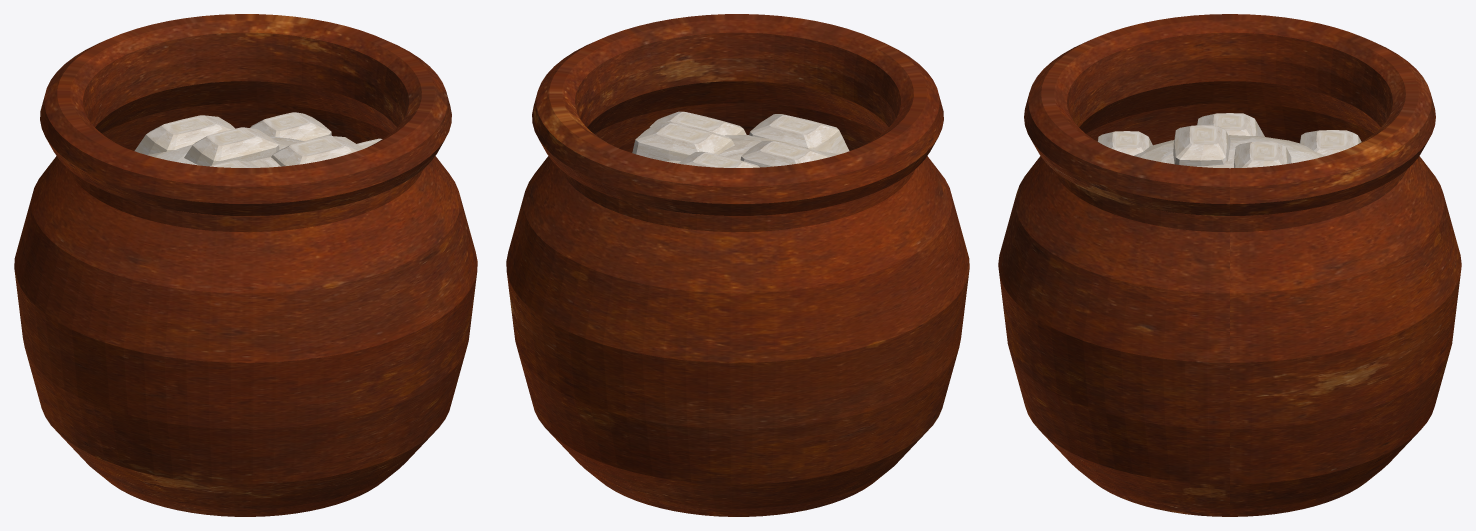
The model's file is soda.obj.
3 views of the same model, side by side, from view 1: azimuth 30°, elevation 25°; view 2: azimuth 150°, elevation 25°; view 3: azimuth 270°, elevation 25° (orthographic).
Visible parts, largest first — view 1: jar, flake_10, flake_8, flake_5, flake_9, fill; view 2: jar, flake_5, flake_1, flake_4, flake_2, flake_10, fill; view 3: jar, flake_4, fill, flake_10, flake_7, flake_3, flake_0.
Part boxes in pixels (x1=…): jar: x1=14, y1=14, x2=477, y2=516; flake_10: x1=184, y1=127, x2=279, y2=166; flake_8: x1=134, y1=115, x2=234, y2=154; flake_5: x1=271, y1=136, x2=362, y2=166; flake_9: x1=250, y1=112, x2=331, y2=141; fill: x1=147, y1=136, x2=303, y2=167; jar: x1=506, y1=14, x2=969, y2=516; flake_5: x1=632, y1=121, x2=734, y2=161; flake_1: x1=749, y1=114, x2=849, y2=154; flake_4: x1=740, y1=140, x2=827, y2=167; flake_2: x1=649, y1=111, x2=746, y2=135; flake_10: x1=679, y1=151, x2=759, y2=167; fill: x1=665, y1=135, x2=838, y2=163; jar: x1=998, y1=14, x2=1461, y2=516; flake_4: x1=1173, y1=125, x2=1230, y2=166; fill: x1=1134, y1=135, x2=1325, y2=168; flake_10: x1=1234, y1=141, x2=1291, y2=167; flake_7: x1=1300, y1=130, x2=1361, y2=155; flake_3: x1=1197, y1=113, x2=1264, y2=136; flake_0: x1=1097, y1=131, x2=1152, y2=155.
Size of the model in its own units: 77 by 67.02 by 77.
2 materials, 2 textured.
